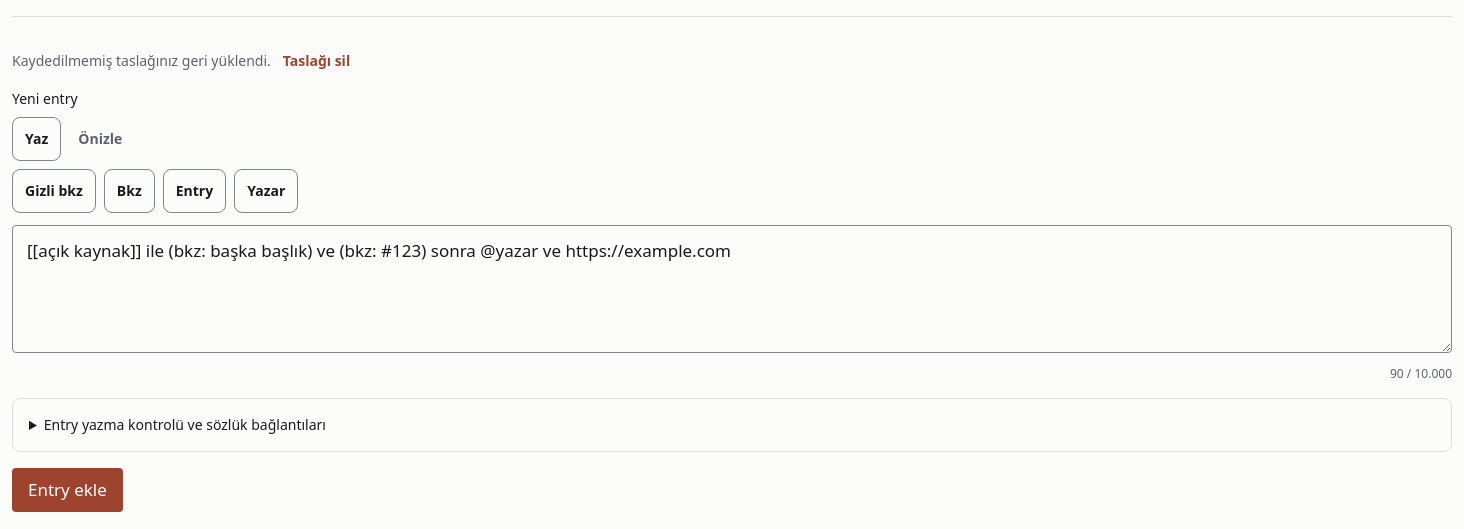
Test: composer önizleme render'ı › metin değişince önizleme tazelenir
The image size is (1464, 529).
Step 1. Replace the text in the text box labelled "Yeni entry" with "ilk hâli yeterince uzun bir entry metni" → (732,289), box [12, 225, 1452, 353]
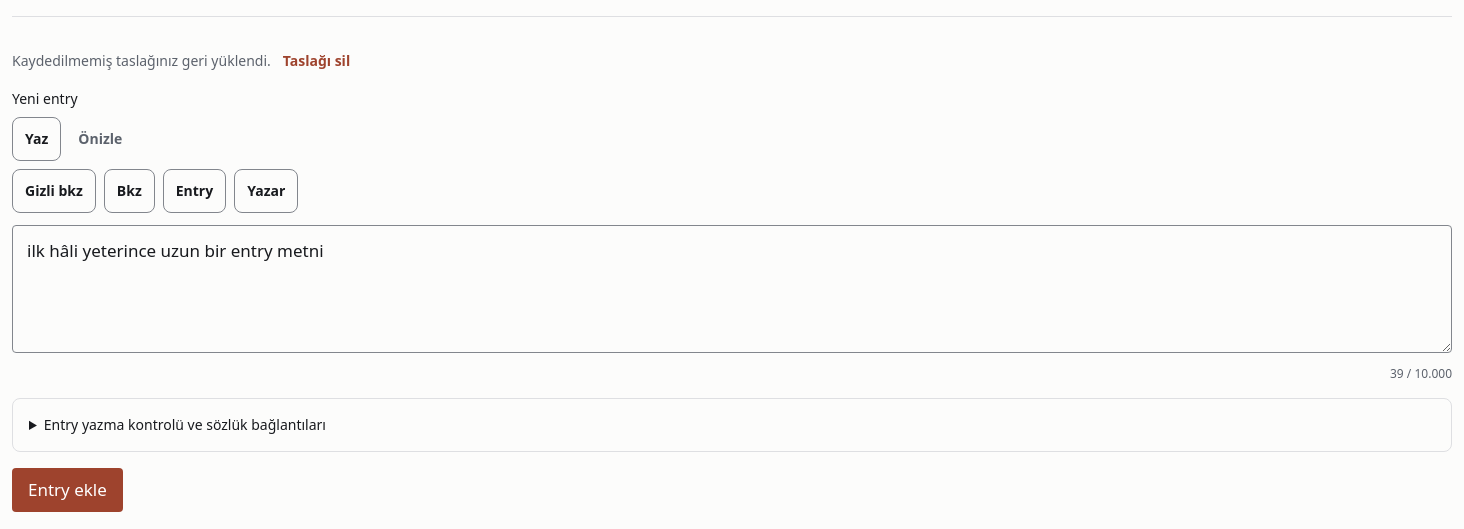
Step 2. Click the tab "Önizle" → (100,139), box [65, 117, 135, 161]
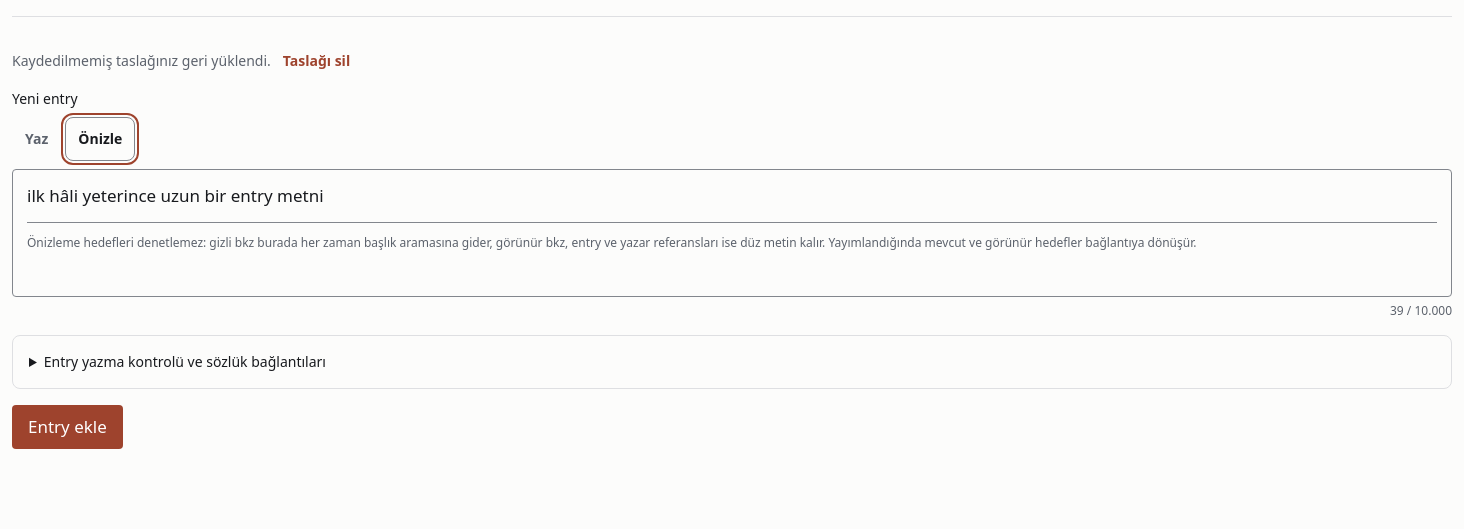
Result: the panel shows "ilk hâli" at [27, 184, 324, 207]
Step 3. Click the tab "Yaz" → (37,139), box [12, 117, 61, 161]
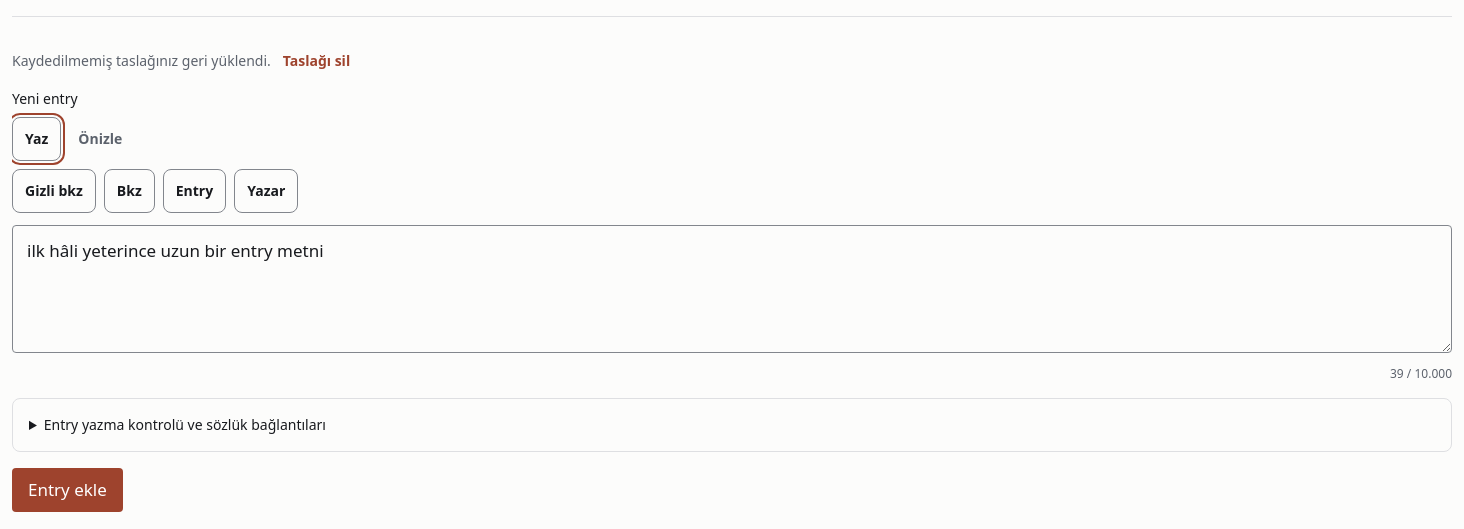
Step 4. Replace the text in the text box labelled "Yeni entry" with "ikinci hâli yeterince uzun bir entry metni" → (732,289), box [12, 225, 1452, 353]
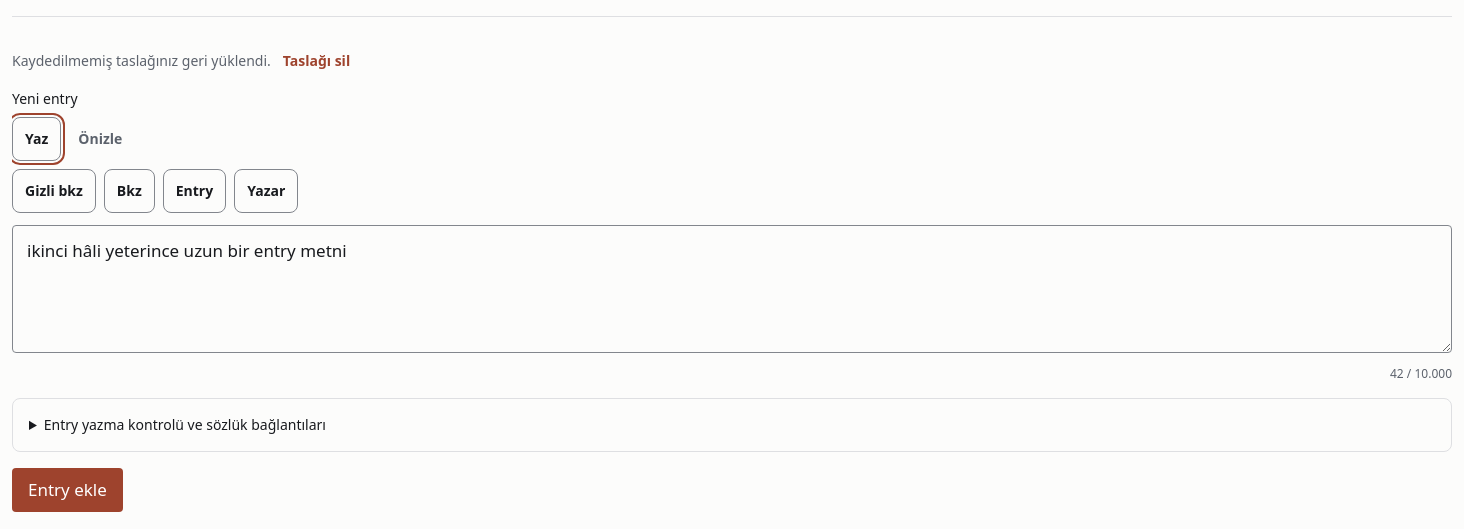
Step 5. Click the tab "Önizle" → (100,139), box [65, 117, 135, 161]
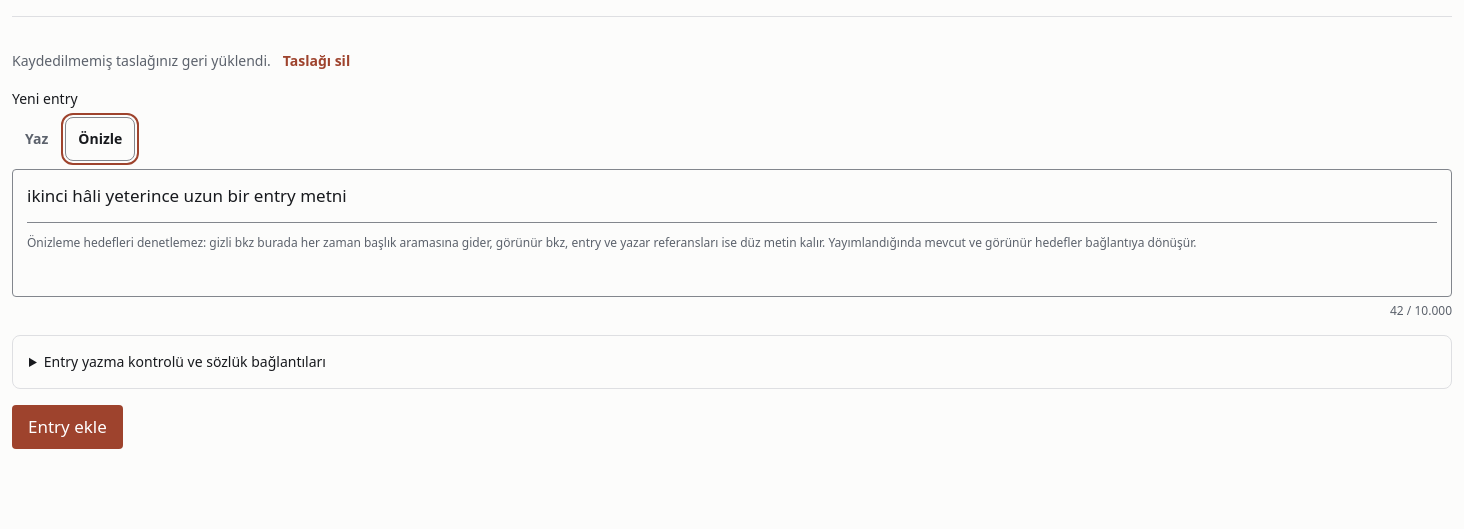
Result: the panel does not show "ilk hâli" at [12, 169, 1452, 297]
Result: the panel shows "ikinci hâli" at [27, 184, 347, 207]
